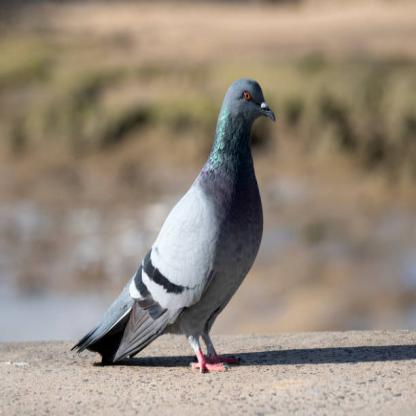Rock Pigeon: (66, 75, 281, 366)
